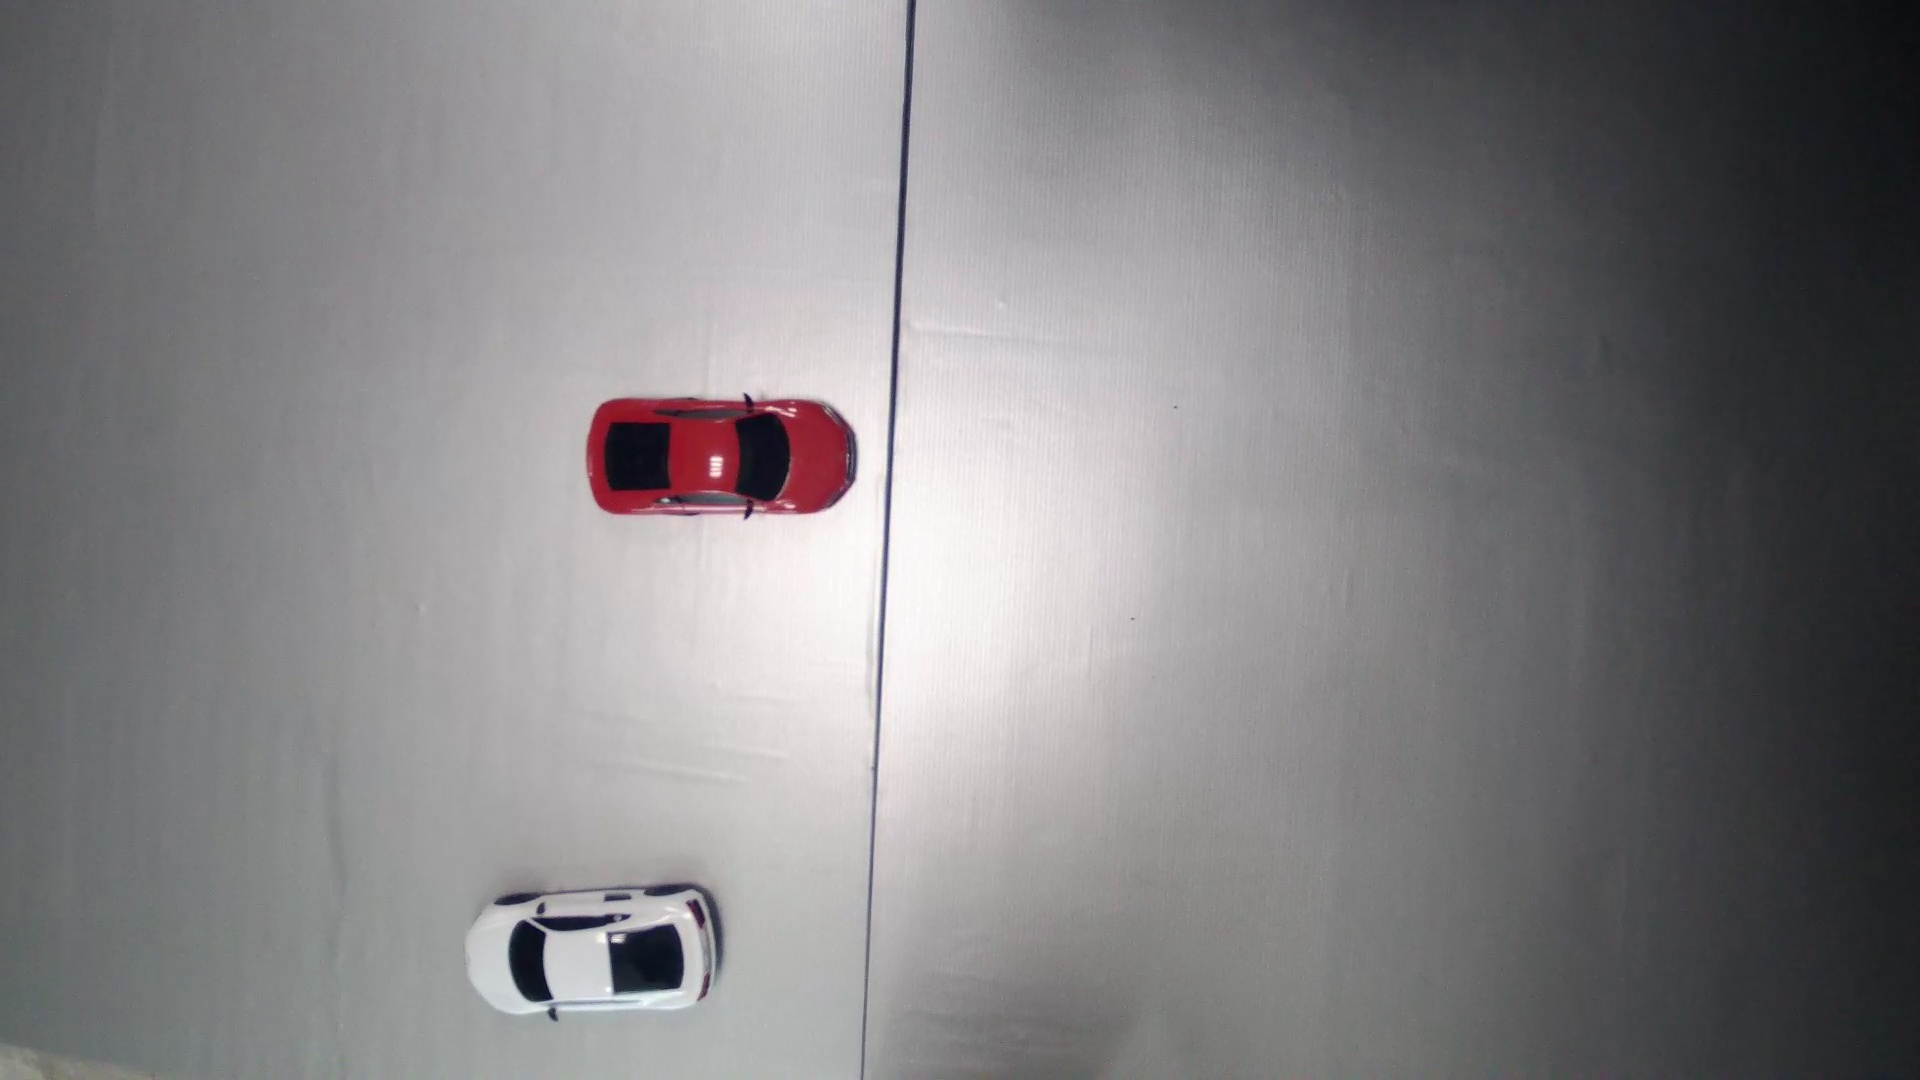remote_car: (463, 881, 717, 1019), (585, 396, 857, 522)
